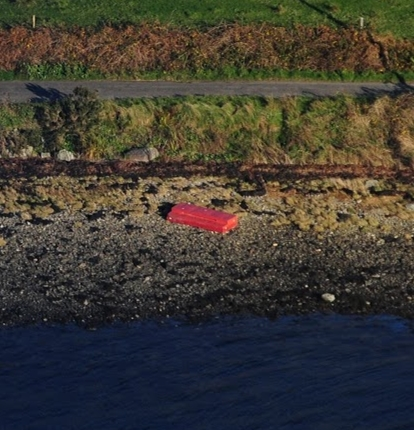cuboid: (161, 196, 242, 238)
